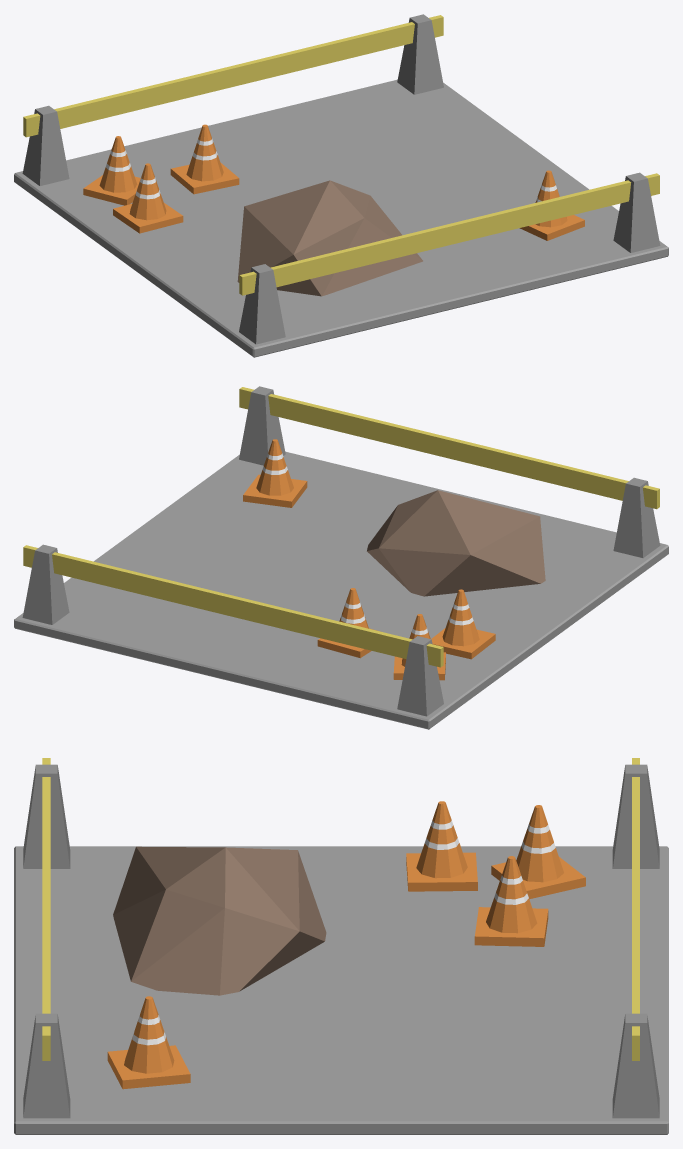
File: empty lot 2.fbx
3 renders of one model, top to bottom at view 1: azimuth 30°, elevation 25°; view 2: azimuth 150°, elevation 25°; view 3: azimuth 270°, elevation 25°, orthographic. The views are drawn at different scales.
Visible parts, largest first — view 1: Plane; view 2: Plane; view 3: Plane.
Boxes of the visible parts, x1,y1,x2,y2 form: Plane: [14, 14, 668, 357]; Plane: [14, 386, 668, 729]; Plane: [14, 758, 668, 1134].
Bounding box in the file's own units: 201 × 38.44 × 200.
1 material, 1 textured.
